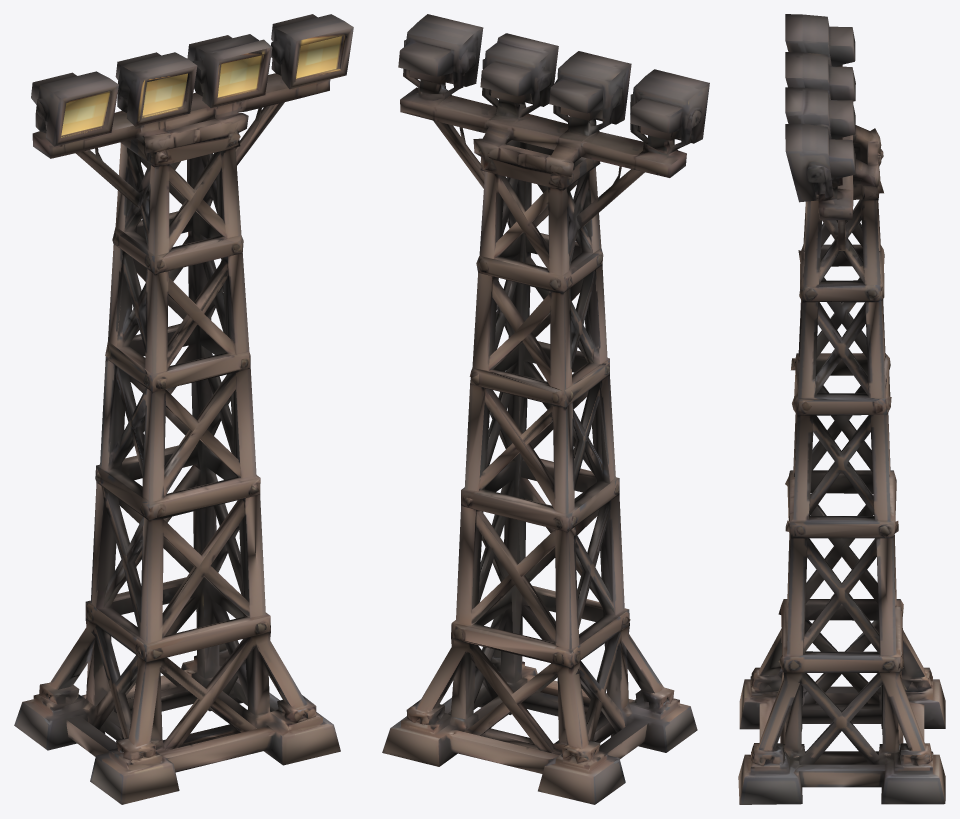
File: LightTower.fbx
The picture shows the model from 3 angles, left to right: view 1: azimuth 30°, elevation 25°; view 2: azimuth 150°, elevation 25°; view 3: azimuth 270°, elevation 25°; orthographic projection. The views are drawn at different scales.
Visible parts, largest first — view 1: node_0; view 2: node_0; view 3: node_0.
Part boxes in pixels (bbox=[...]): node_0: bbox=[14, 14, 353, 804]; node_0: bbox=[382, 14, 709, 804]; node_0: bbox=[738, 14, 945, 804].
Bounding box in the file's own units: 49.58 × 109 × 30.53.
1 material, 1 textured.
